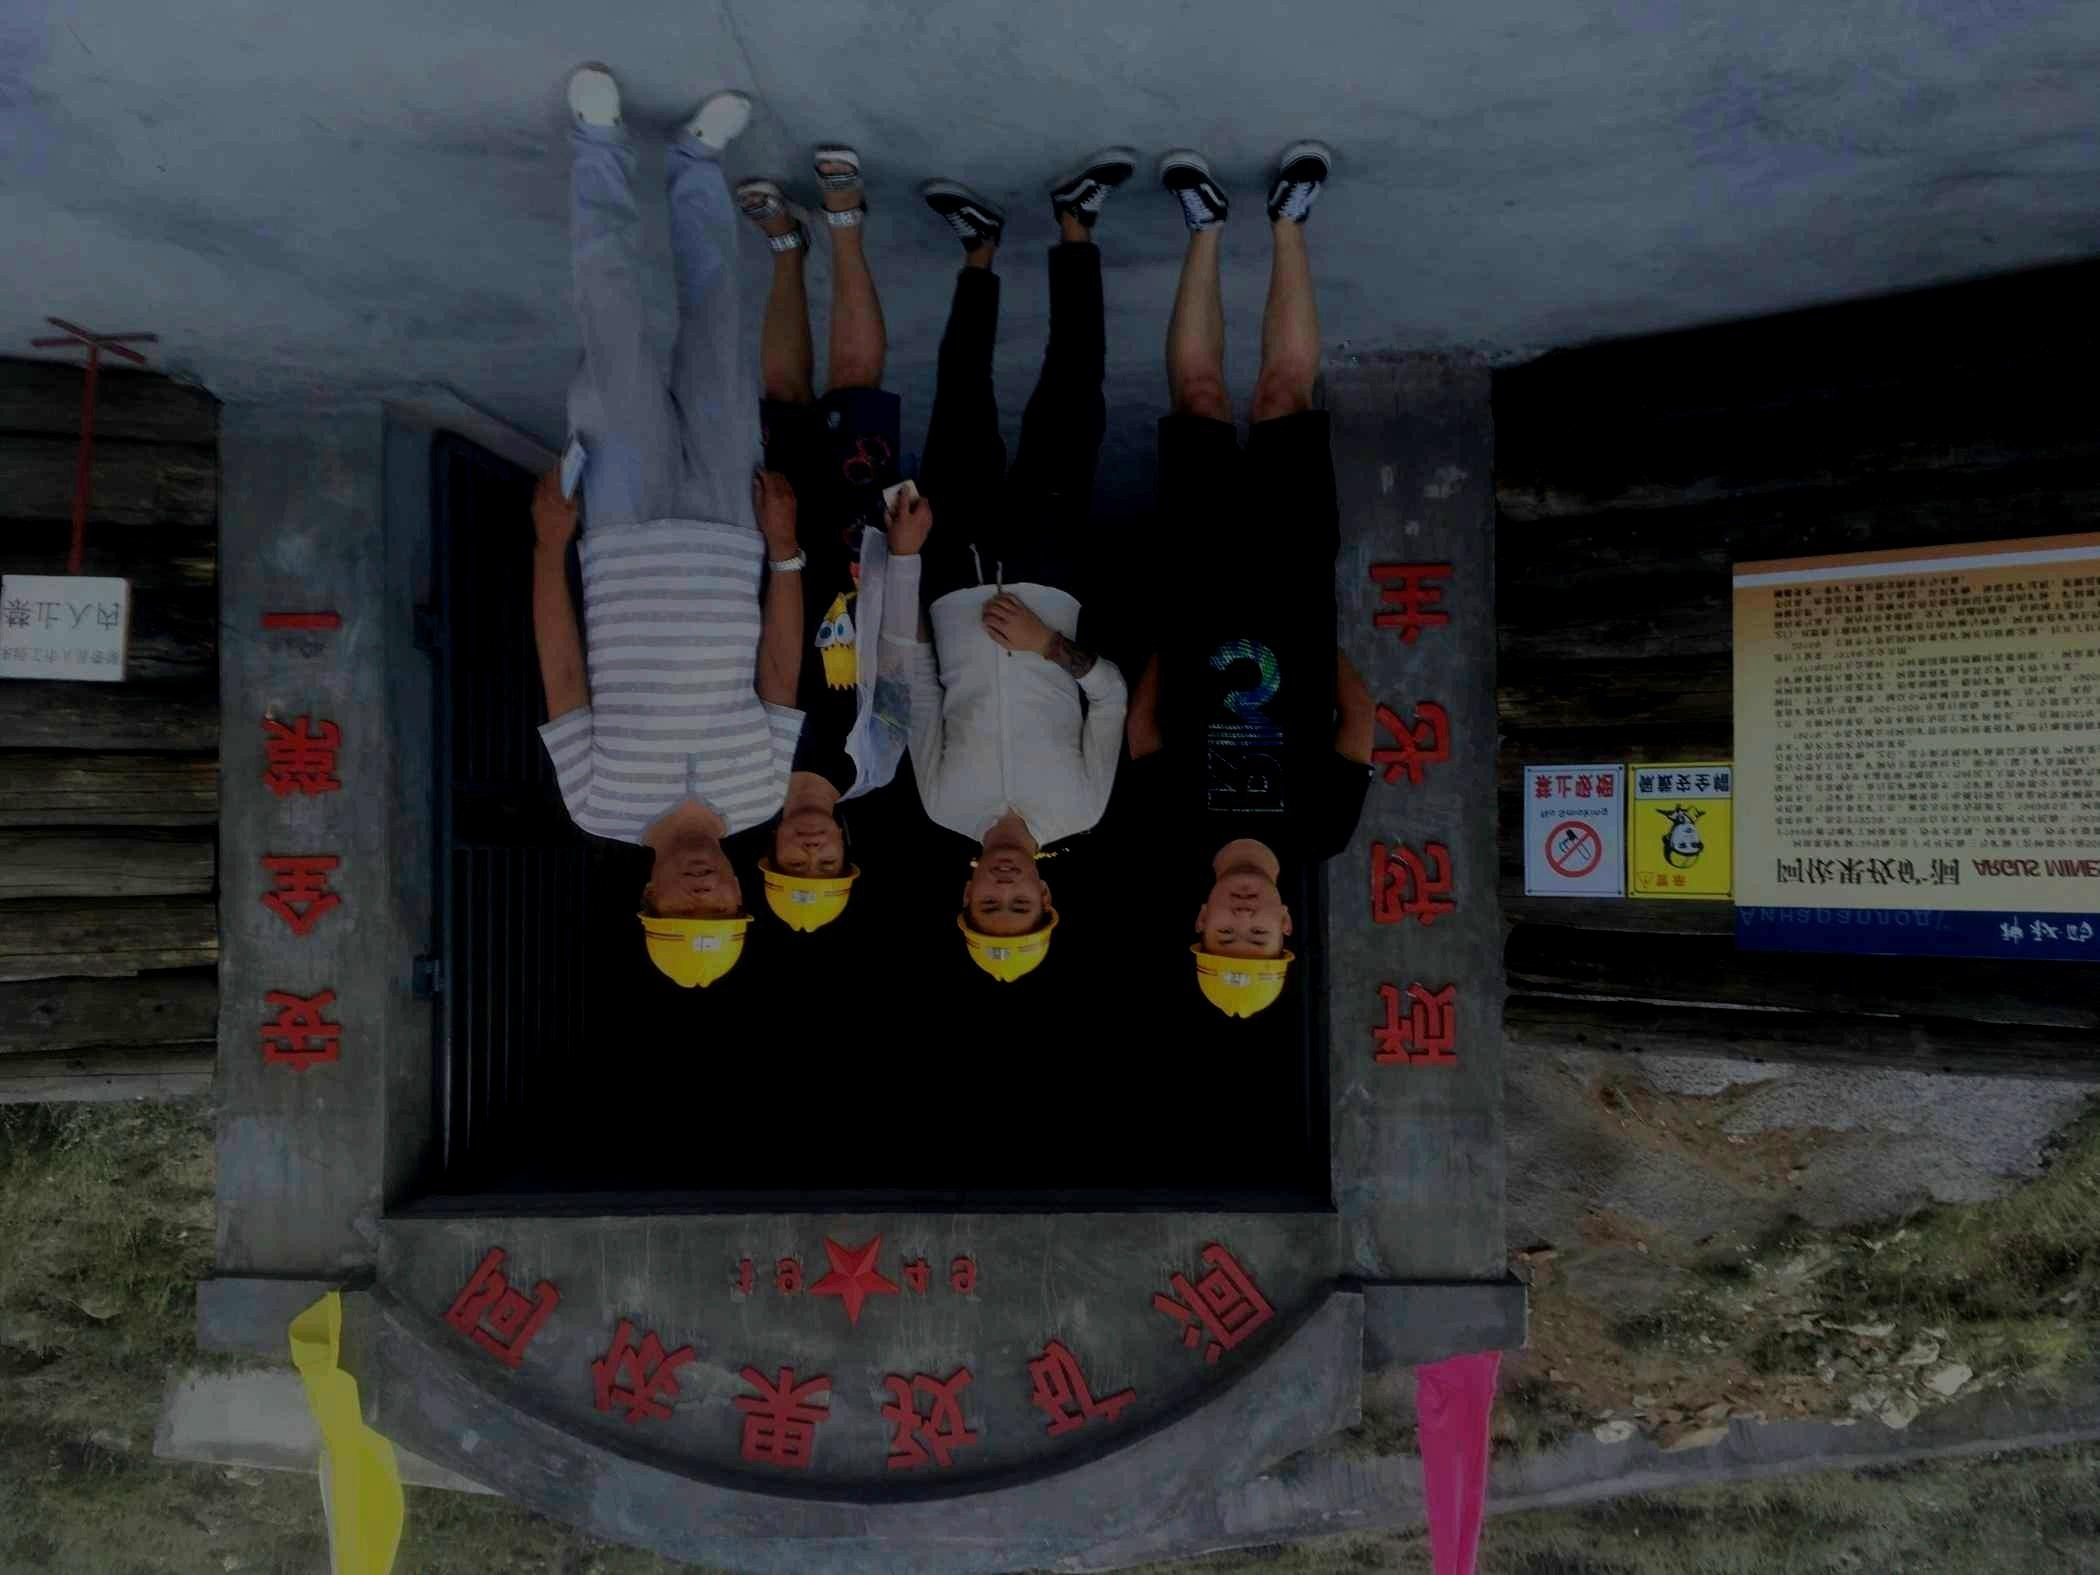helmet: (637, 834, 756, 988), (1189, 870, 1295, 1019), (956, 849, 1058, 983), (757, 811, 860, 933)
